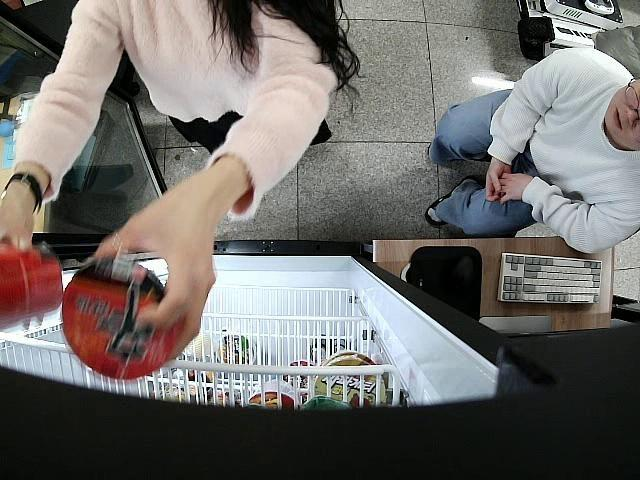02_shinRamen_S: (59, 256, 180, 377), (0, 241, 63, 332)
